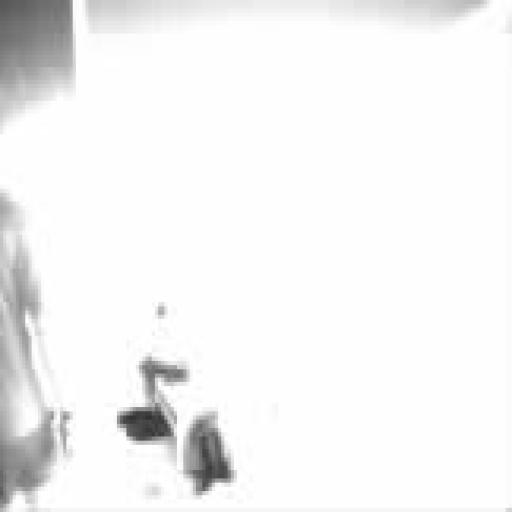human: (0, 194, 56, 511)
